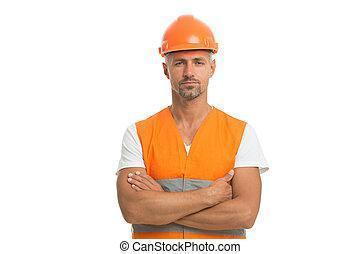helmet: (159, 15, 218, 56)
